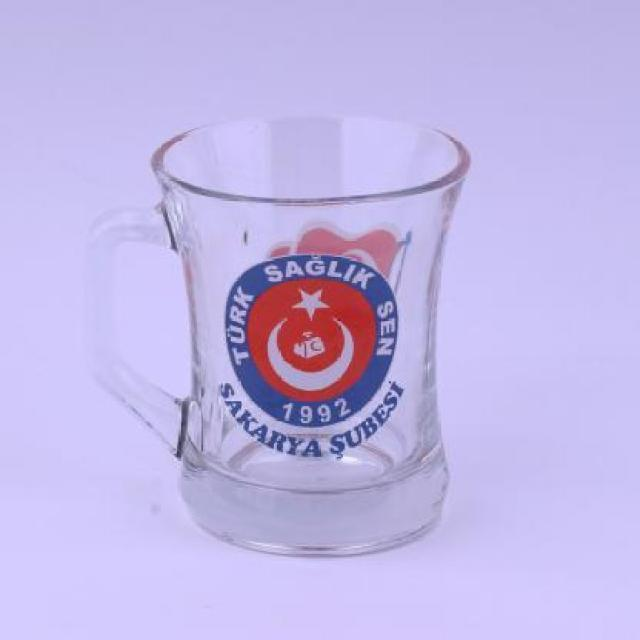taza: (65, 76, 494, 568)
